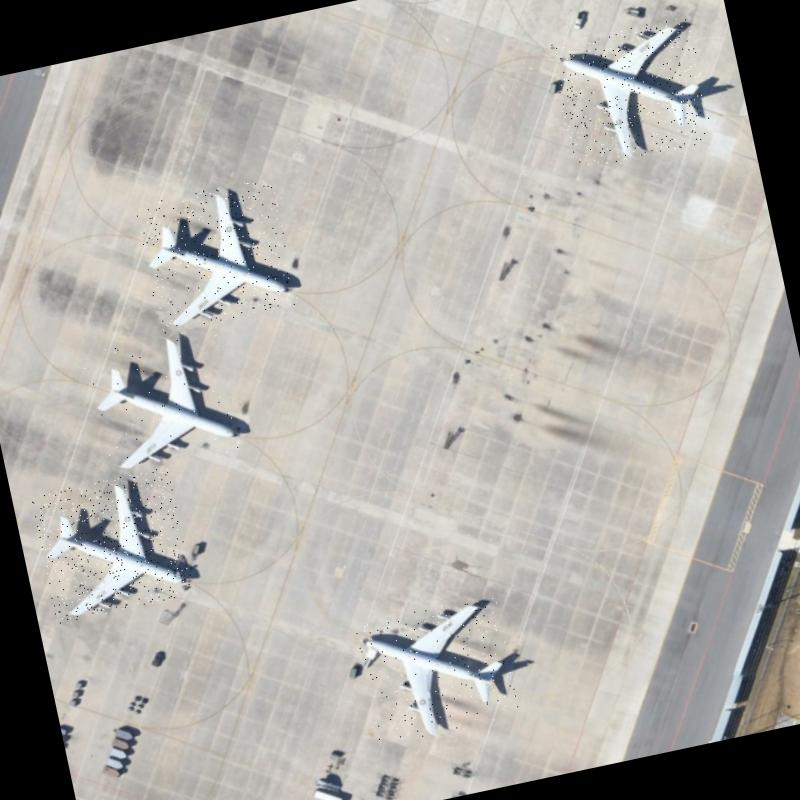A11: (134, 176, 299, 334), (30, 467, 195, 624), (549, 16, 715, 170), (354, 594, 522, 746), (81, 324, 243, 478)
